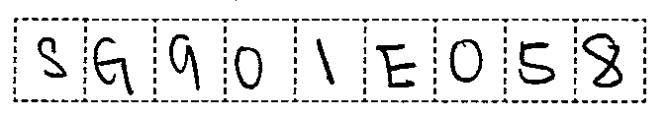0: (445, 34, 489, 88), (230, 40, 270, 93)
1: (305, 31, 342, 88)
5: (515, 34, 560, 91)
8: (579, 30, 632, 92)
9: (164, 29, 206, 92)
E: (373, 40, 423, 94)
G: (91, 34, 142, 98)
S: (29, 32, 75, 86)
